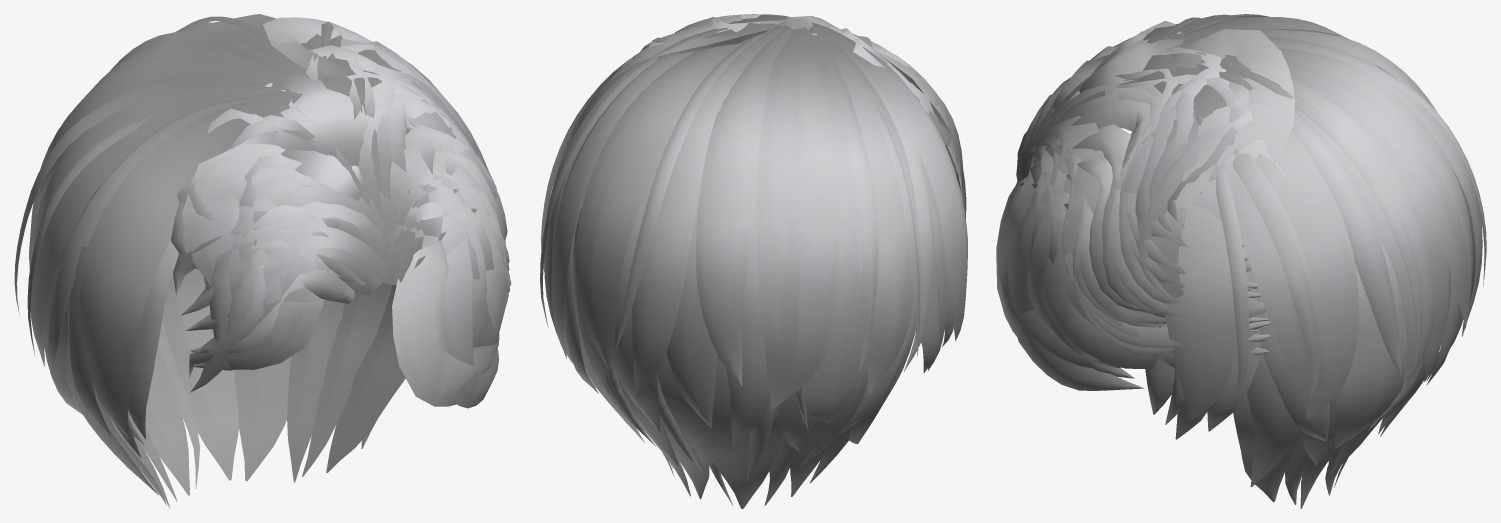
Rendered from vroid_hair_c11v5.glb.
3 views of the same model, side by side, from view 1: azimuth 30°, elevation 25°; view 2: azimuth 150°, elevation 25°; view 3: azimuth 270°, elevation 25° (orthographic). The views are drawn at different scales.
Visible parts, largest first — view 1: hair; view 2: hair; view 3: hair.
Boxes of the visible parts, left/top/right/bottom form: hair: left=14, top=14, right=511, bottom=508; hair: left=540, top=14, right=967, bottom=508; hair: left=996, top=14, right=1486, bottom=508.
Bounding box in the file's own units: 0.2133 × 0.2386 × 0.2328.
1 material, 1 textured.
